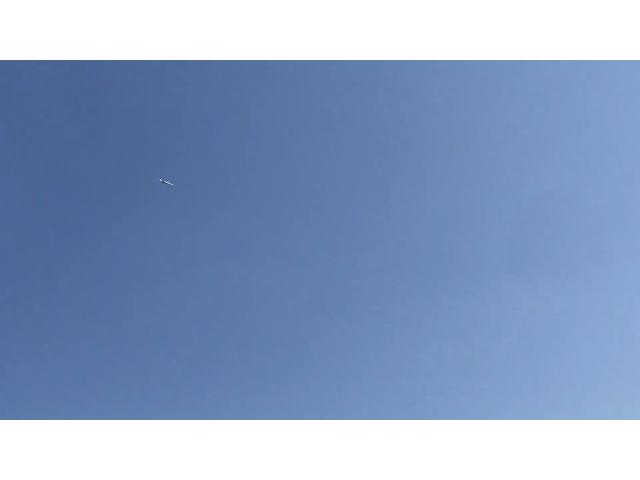Anti-Drone: (146, 176, 186, 192)
